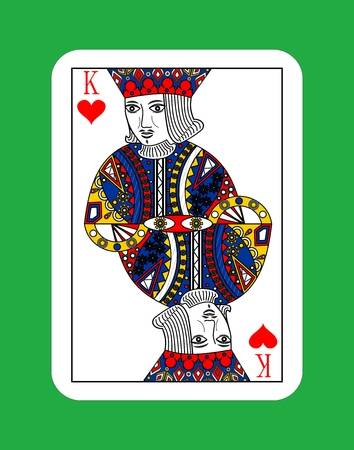king of hearts: (53, 51, 306, 396)
